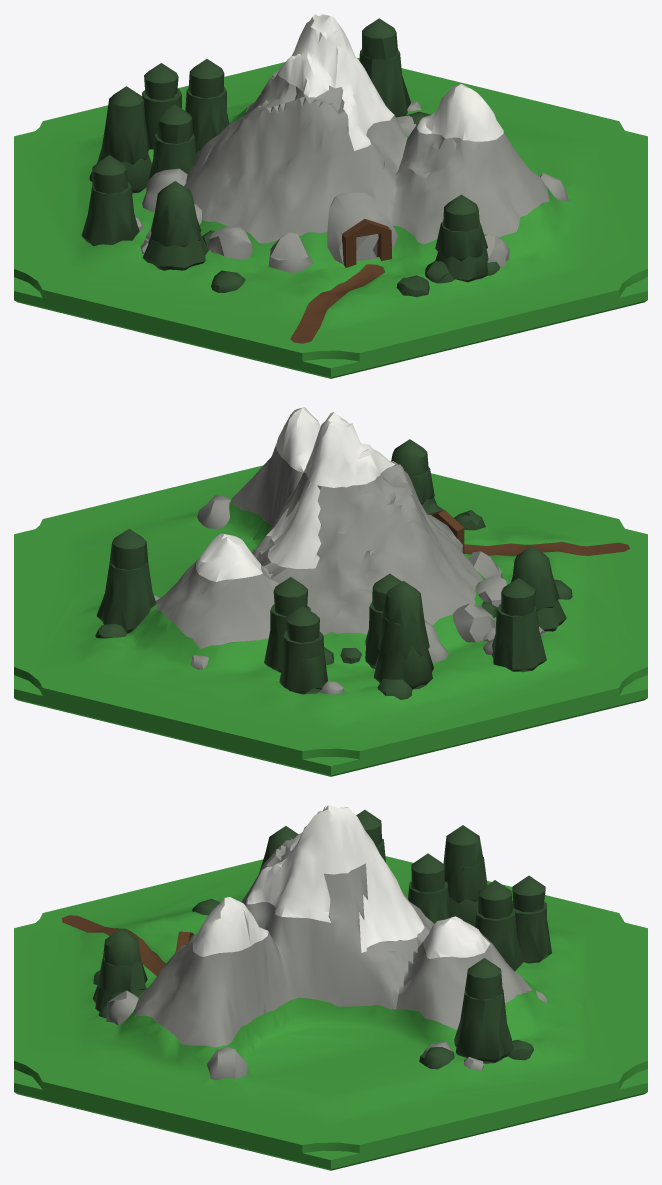
File: gebirge_4.glb
The picture shows the model from 3 angles, top to bottom: view 1: azimuth 30°, elevation 25°; view 2: azimuth 150°, elevation 25°; view 3: azimuth 270°, elevation 25°; orthographic projection.
Parts seen in each view (by area): view 1: gebirge_4; view 2: gebirge_4; view 3: gebirge_4.
Boxes of the visible parts, x1,y1,x2,y2 form: gebirge_4: (14, 14, 647, 378); gebirge_4: (14, 407, 647, 776); gebirge_4: (14, 805, 647, 1170).
Size of the model in its own units: 65.24 by 20.79 by 56.5.
